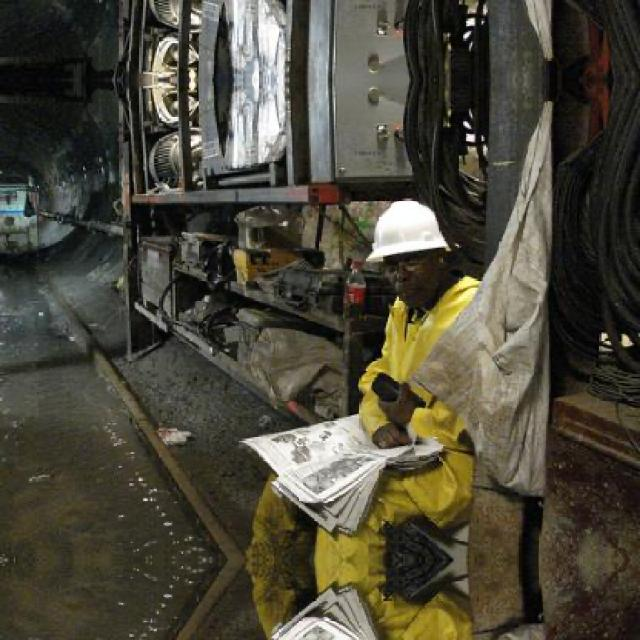2: (249, 197, 517, 558), (248, 562, 517, 638)
helmet: (371, 196, 454, 310)
